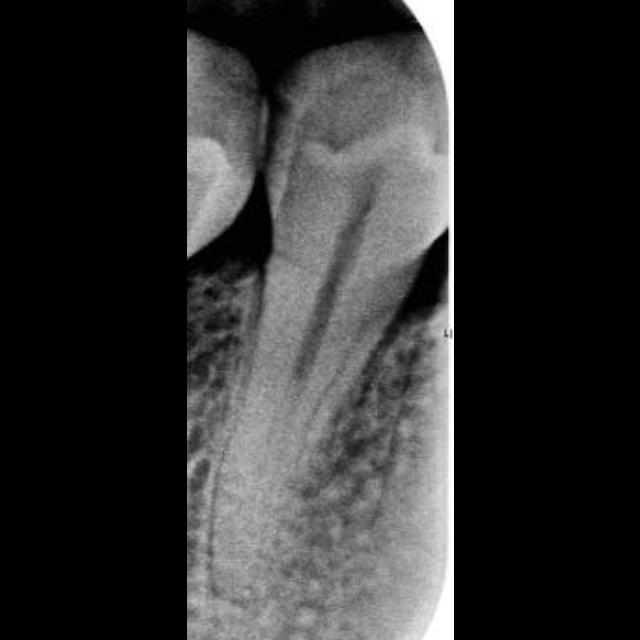tooth: (205, 31, 448, 602)
